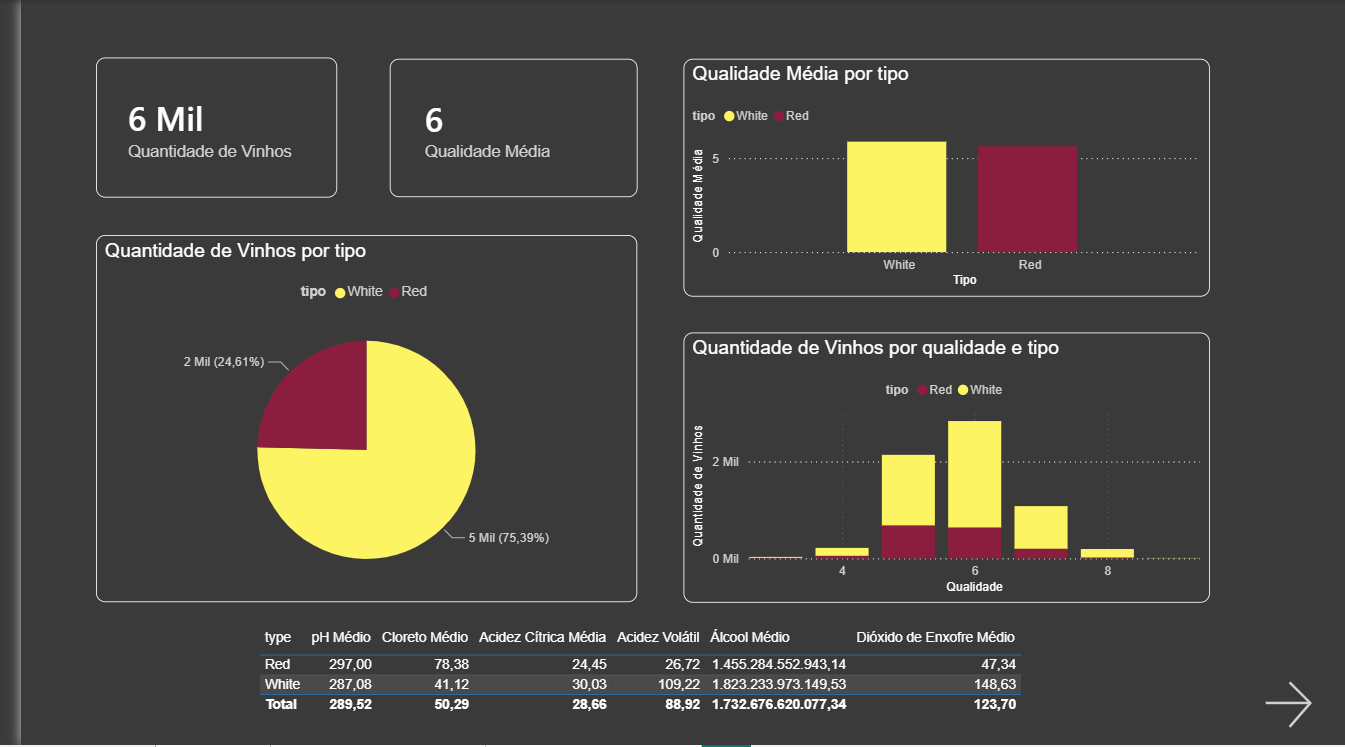

This screenshot's page, from the dashboard's own definition file:
{"tool":"powerbi","page":{"name":"Overview","canvas":[1280,720],"ordinal":0},"visuals":[{"type":"columnChart","title":"Quantidade de Vinhos por qualidade e tipo","fields":{"Y":["winequality-total.Quantidade de Vinhos"],"Category":["winequality-total.quality"],"Series":["winequality-total.type"]},"box":[639.4,320.9,507.9,260.6],"z":0},{"type":"pieChart","title":"Quantidade de Vinhos por tipo","fields":{"Y":["winequality-total.Quantidade de Vinhos"],"Category":["winequality-total.type"]},"box":[72.4,226.8,522.4,354.7],"z":1000},{"type":"cardVisual","fields":{"Data":["winequality-total.Quantidade de Vinhos"]},"box":[72.4,55.5,232.8,135.1],"z":2000},{"type":"cardVisual","fields":{"Data":["winequality-total.Qualidade Média"]},"box":[355.9,56.7,238.9,133.9],"z":3000},{"type":"actionButton","box":[1179.9,639.4,100.1,80.8],"z":4000},{"type":"columnChart","title":"Qualidade Média por tipo","fields":{"Series":["winequality-total.type"],"Category":["winequality-total.type"],"Y":["winequality-total.Qualidade Média"]},"box":[639.4,56.7,507.9,229.2],"z":5000},{"type":"tableEx","fields":{"Values":["winequality-total.type","winequality-total.pH Médio","winequality-total.Cloreto Médio","winequality-total.Acidez Cítrica Média","winequality-total.Acidez Volátil","winequality-total.Álcool Médio","winequality-total.Dióxido de Enxofre Médio"]},"box":[224.4,600.8,795,97.7],"z":6000}]}

Visuals, with their boxes in screenshot pixels (x1, y1, x2, y2), scaled from the page's 1280x720 canvas onto the 1345x747 screenshot:
"Quantidade de Vinhos por qualidade e tipo" columnChart: box=[672, 333, 1206, 603]
"Quantidade de Vinhos por tipo" pieChart: box=[76, 235, 625, 603]
cardVisual - winequality-total.Quantidade de Vinhos: box=[76, 58, 321, 198]
cardVisual - winequality-total.Qualidade Média: box=[374, 59, 625, 198]
actionButton: box=[1240, 663, 1344, 746]
"Qualidade Média por tipo" columnChart: box=[672, 59, 1206, 297]
tableEx - winequality-total.type x winequality-total.pH Médio: box=[236, 623, 1071, 725]
